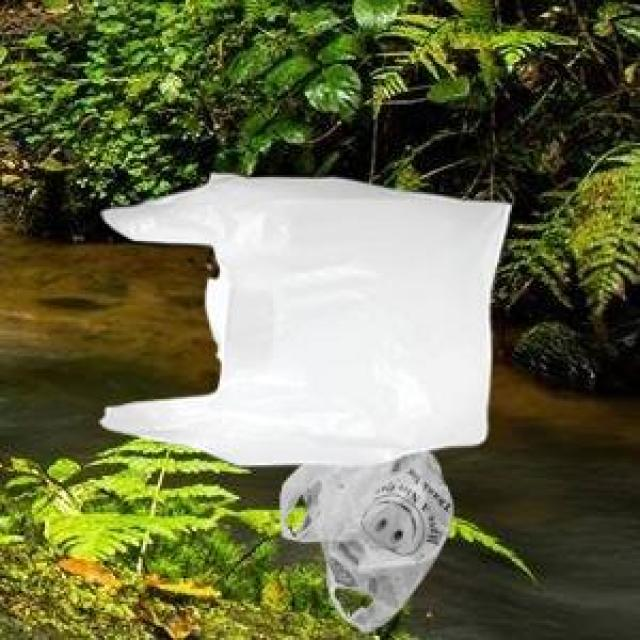plastic: (74, 157, 545, 640)
